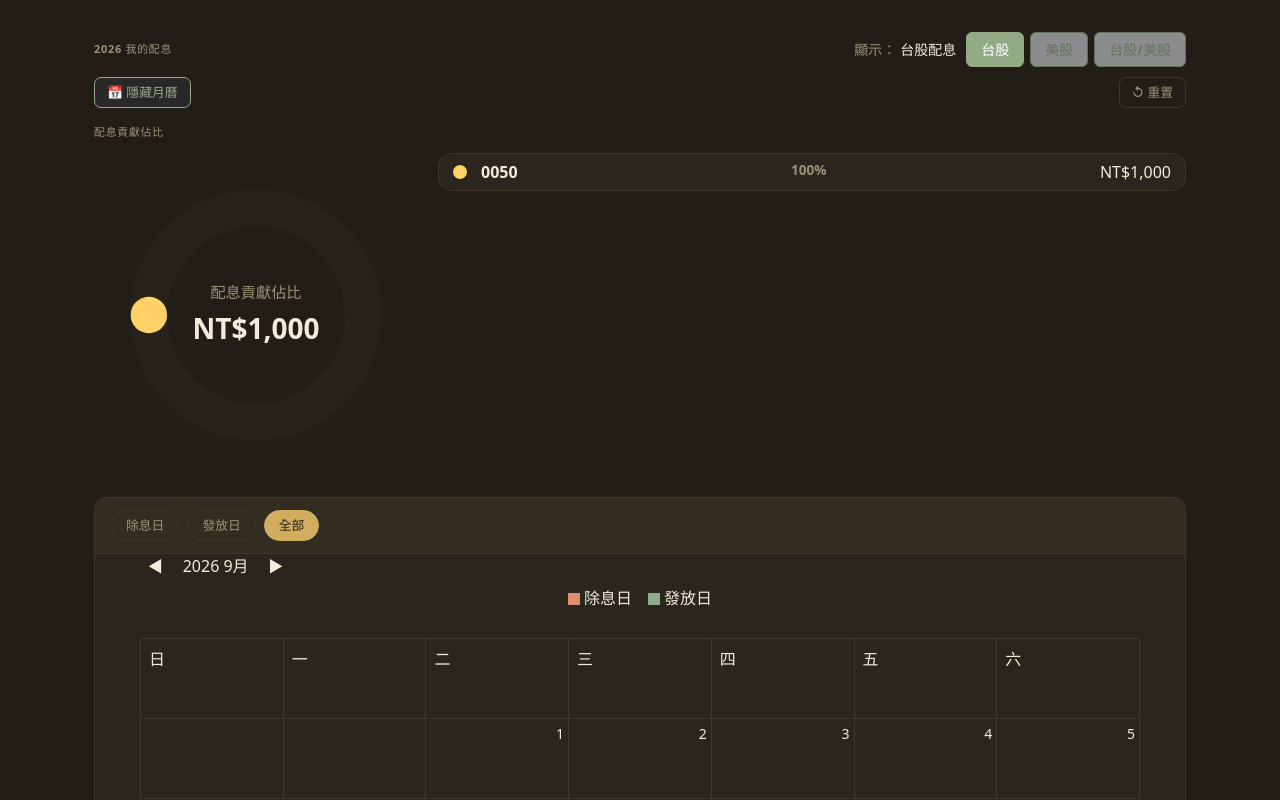
Test: donut detail shows 0% yield instead of Infinity/NaN when cost data is missing
Click the button "0050 100% NT$1,000" at point(812, 172), box top-left (439, 154), bottom-right (1185, 190)
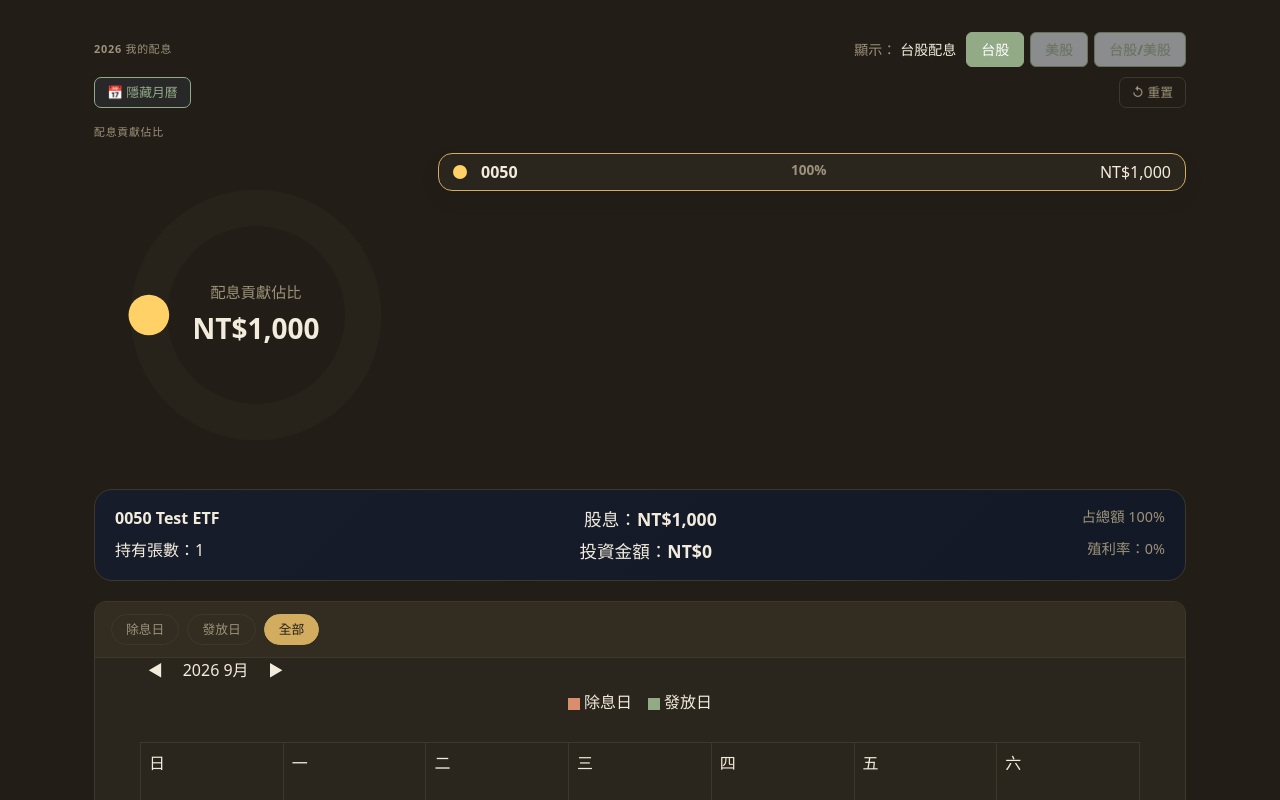
Result: the text "殖利率：0%" is shown at top-left (1087, 538), bottom-right (1165, 560)
